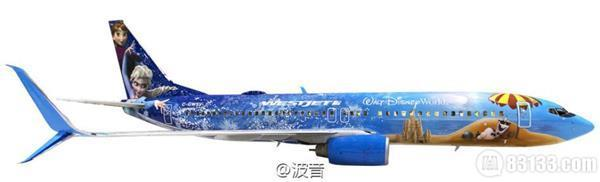airplane: (5, 20, 595, 168)
